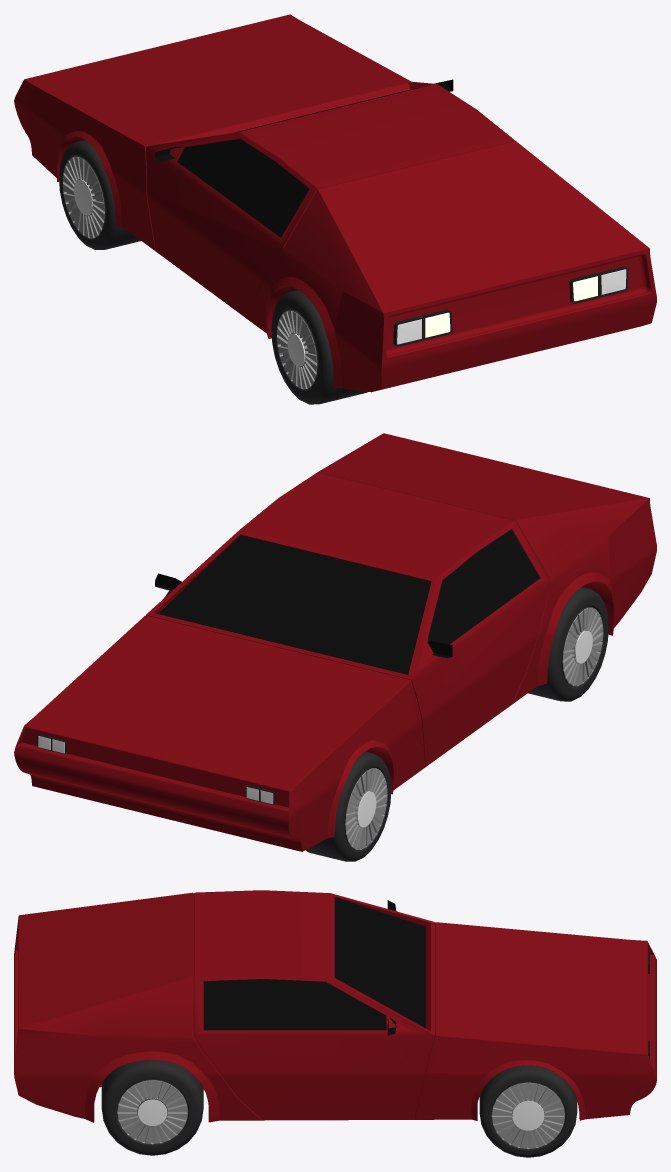
File: random car 2.fbx
The picture shows the model from 3 angles, top to bottom: view 1: azimuth 30°, elevation 25°; view 2: azimuth 150°, elevation 25°; view 3: azimuth 270°, elevation 25°; orthographic projection. The views are drawn at different scales.
Visible parts, largest first — view 1: base car 2 try.002, back wheels.002, front wheels.002, back light.002; view 2: base car 2 try.002, back wheels.002, front wheels.002, front light.002; view 3: base car 2 try.002, back wheels.002, front wheels.002.
Boxes of the visible parts, x1,y1,x2,y2 form: base car 2 try.002: [14, 14, 656, 392]; back wheels.002: [271, 290, 367, 404]; front wheels.002: [59, 140, 140, 249]; back light.002: [393, 266, 628, 346]; base car 2 try.002: [14, 433, 656, 851]; back wheels.002: [528, 587, 608, 701]; front wheels.002: [305, 751, 391, 861]; front light.002: [37, 734, 275, 804]; base car 2 try.002: [14, 890, 656, 1122]; back wheels.002: [101, 1060, 203, 1155]; front wheels.002: [479, 1065, 577, 1157].
Size of the model in its own units: 1307 by 813 by 2826.
